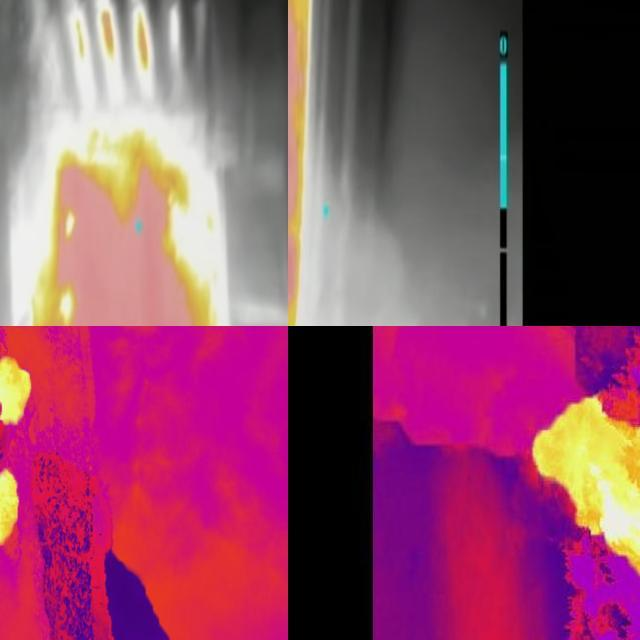fire: (470, 338, 640, 639), (11, 142, 277, 327), (1, 327, 64, 572)
